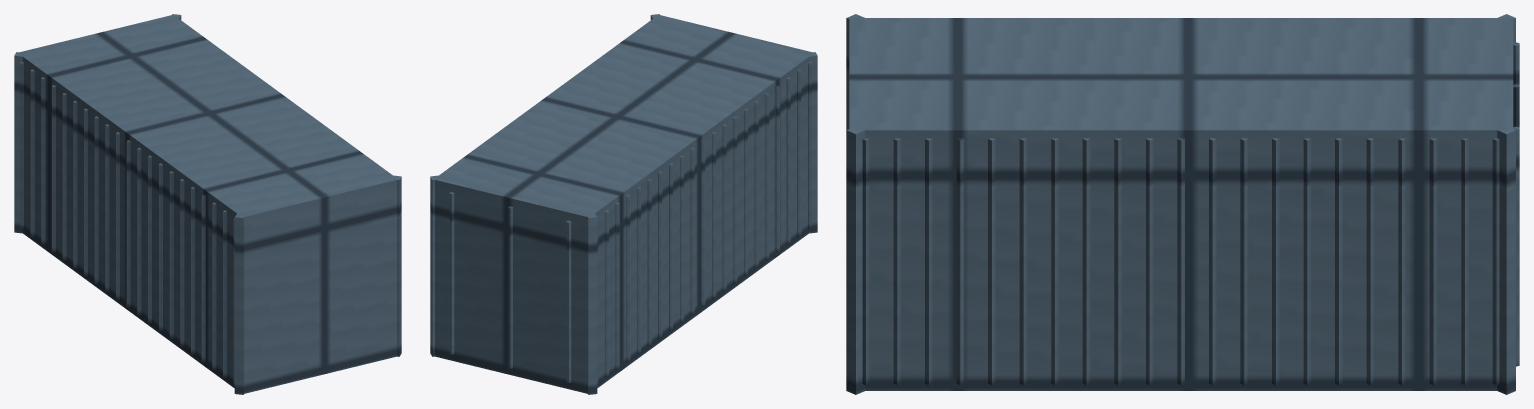
File: container.glb
3 renders of one model, left to right at view 1: azimuth 30°, elevation 25°; view 2: azimuth 150°, elevation 25°; view 3: azimuth 270°, elevation 25°, orthographic. The views are drawn at different scales.
Visible parts, largest first — view 1: Shipping container, Corner casting, Corner casting.001, Corner casting.002, Corrugation.003, Corrugation.015, Corrugation.006, Corrugation.009, Corrugation.012, Corrugation.019, Corrugation.002, Corrugation.005 (+12 smaller); view 2: Shipping container, Corner casting.001, Corner casting, Door locking bar, Door locking bar.002, Corner casting.003, Corrugation.005, Corrugation.017, Corrugation.001, Corrugation.008, Corrugation.011, Corrugation.014 (+15 smaller); view 3: Shipping container, Corner casting.002, Corner casting.003, Corrugation.022, Corrugation.024, Corrugation.026, Corrugation.028, Corrugation.033, Corrugation.035, Corrugation.037, Corrugation.039, Corrugation.023 (+13 smaller).
Boxes of the visible parts, x1,y1,x2,y2 form: Shipping container: [18, 14, 397, 393]; Corner casting: [234, 213, 245, 394]; Corner casting.001: [14, 52, 22, 233]; Corner casting.002: [391, 175, 401, 356]; Corrugation.003: [201, 194, 205, 362]; Corrugation.015: [73, 100, 77, 268]; Corrugation.006: [169, 171, 173, 338]; Corrugation.009: [137, 147, 141, 315]; Corrugation.012: [105, 124, 109, 291]; Corrugation.019: [30, 69, 34, 237]; Corrugation.002: [212, 202, 216, 370]; Corrugation.005: [180, 179, 184, 346]; Shipping container: [434, 14, 813, 393]; Corner casting.001: [587, 213, 597, 394]; Corner casting: [808, 52, 817, 233]; Door locking bar: [566, 220, 571, 382]; Door locking bar.002: [449, 192, 454, 354]; Corner casting.003: [430, 175, 438, 356]; Corrugation.005: [754, 100, 758, 268]; Corrugation.017: [626, 194, 630, 362]; Corrugation.001: [797, 69, 801, 237]; Corrugation.008: [722, 124, 726, 291]; Corrugation.011: [690, 147, 694, 315]; Corrugation.014: [658, 171, 662, 338]; Shipping container: [849, 18, 1513, 390]; Corner casting.002: [846, 126, 865, 394]; Corner casting.003: [1497, 126, 1515, 394]; Corrugation.022: [893, 138, 901, 385]; Corrugation.024: [956, 138, 964, 385]; Corrugation.026: [1019, 138, 1027, 385]; Corrugation.028: [1082, 138, 1090, 385]; Corrugation.033: [1240, 138, 1248, 385]; Corrugation.035: [1303, 138, 1311, 385]; Corrugation.037: [1366, 138, 1374, 385]; Corrugation.039: [1429, 138, 1437, 385]; Corrugation.023: [925, 138, 932, 384].
Size of the model in its own units: 2.57 by 2.6 by 6.08.
2 materials, 2 textured.
